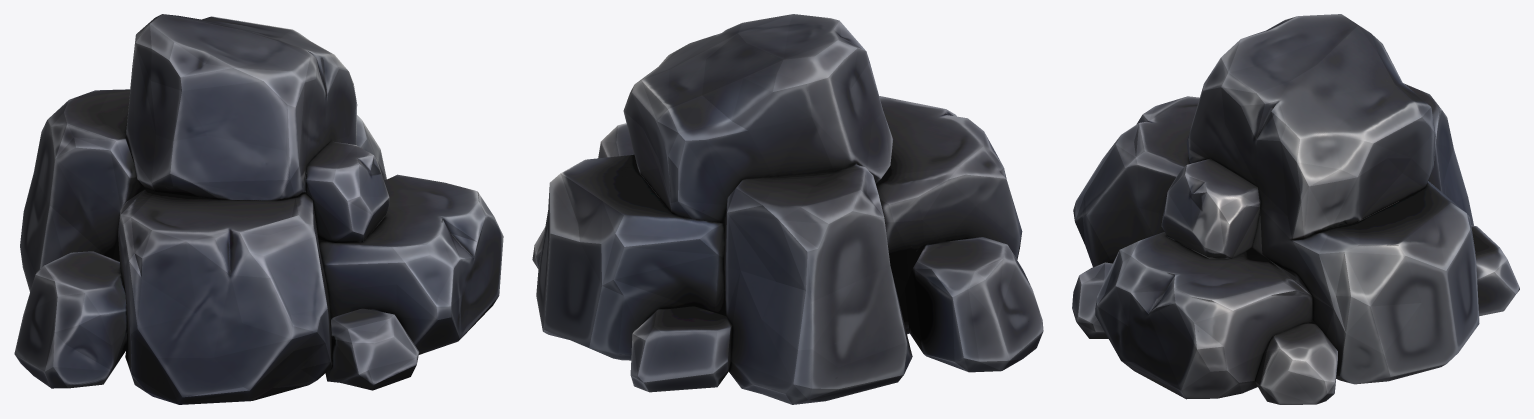
File: stylized_stone.fbx
3 renders of one model, left to right at view 1: azimuth 30°, elevation 25°; view 2: azimuth 150°, elevation 25°; view 3: azimuth 270°, elevation 25°, orthographic. The views are drawn at different scales.
Visible parts, largest first — view 1: stylized_stone1; view 2: stylized_stone1; view 3: stylized_stone1.
Boxes of the visible parts, bbox=[...] form: stylized_stone1: bbox=[14, 14, 503, 404]; stylized_stone1: bbox=[532, 14, 1043, 404]; stylized_stone1: bbox=[1072, 14, 1519, 404].
Size of the model in its own units: 168 by 106 by 158.
Materials: 1 (1 with a texture image).
